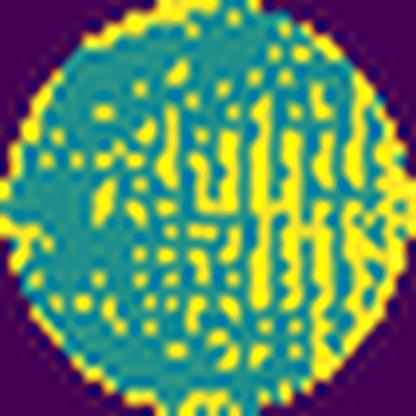Random: (81, 56, 416, 415)
